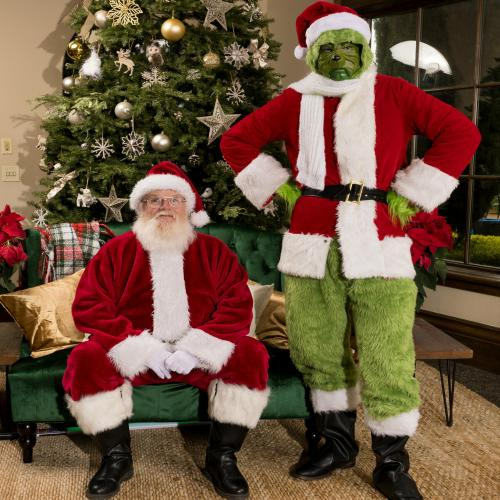Santa: (59, 157, 271, 500)
